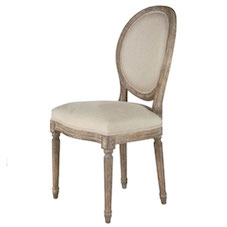chair: (34, 0, 198, 222)
